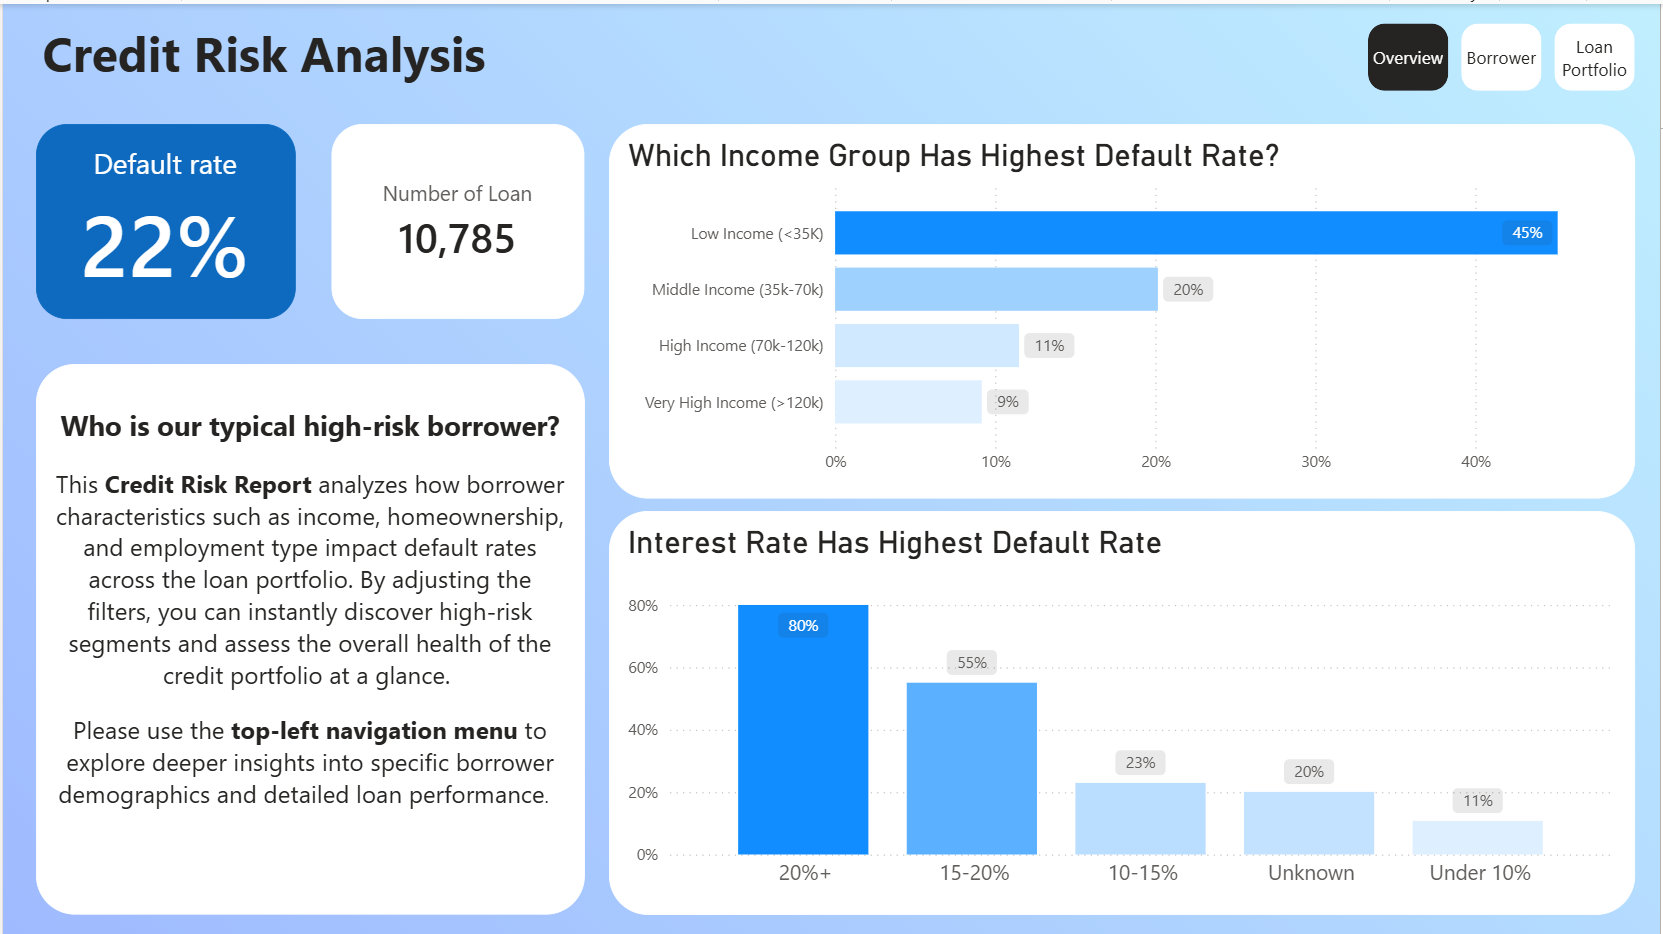

What the dashboard file says about the page in this screenshot:
{"tool":"powerbi","page":{"name":"Overview","canvas":[1280,720],"ordinal":0},"visuals":[{"type":"cardVisual","fields":{"Data":["Fact_Loan.Default rate"]},"box":[24.9,92.8,200.9,151],"z":0},{"type":"cardVisual","fields":{"Data":["Dim_Borrower.Count Loan"]},"box":[253.5,92.8,195.3,151],"z":1000},{"type":"clusteredBarChart","title":"Which Income Group Has Highest Default Rate?","fields":{"Y":["Fact_Loan.Default rate"],"Category":["Dim_Borrower.income_group"]},"box":[468.2,92.8,792.4,289.5],"z":2000},{"type":"pageNavigator","box":[1054.2,15.2,206.4,52.6],"z":3000},{"type":"clusteredColumnChart","title":"Interest Rate Has Highest Default Rate","fields":{"Category":["Fact_Loan.loan_int_bin"],"Y":["Fact_Loan.Default rate"]},"box":[468.2,392,792.4,311.7],"z":4000},{"type":"textbox","box":[24.9,278.4,423.9,425.3],"z":5000},{"type":"textbox","box":[24.9,6.9,423.9,67.9],"z":6000}]}

Visuals, with their boxes in screenshot pixels (x1, y1, x2, y2), scaled from the page's 1280x720 canvas onto the 1663x934 screenshot:
cardVisual - Fact_Loan.Default rate: left=32, top=120, right=293, bottom=316
cardVisual - Dim_Borrower.Count Loan: left=329, top=120, right=583, bottom=316
"Which Income Group Has Highest Default Rate?" clusteredBarChart: left=608, top=120, right=1638, bottom=496
pageNavigator: left=1370, top=20, right=1638, bottom=88
"Interest Rate Has Highest Default Rate" clusteredColumnChart: left=608, top=509, right=1638, bottom=913
textbox: left=32, top=361, right=583, bottom=913
textbox: left=32, top=9, right=583, bottom=97
